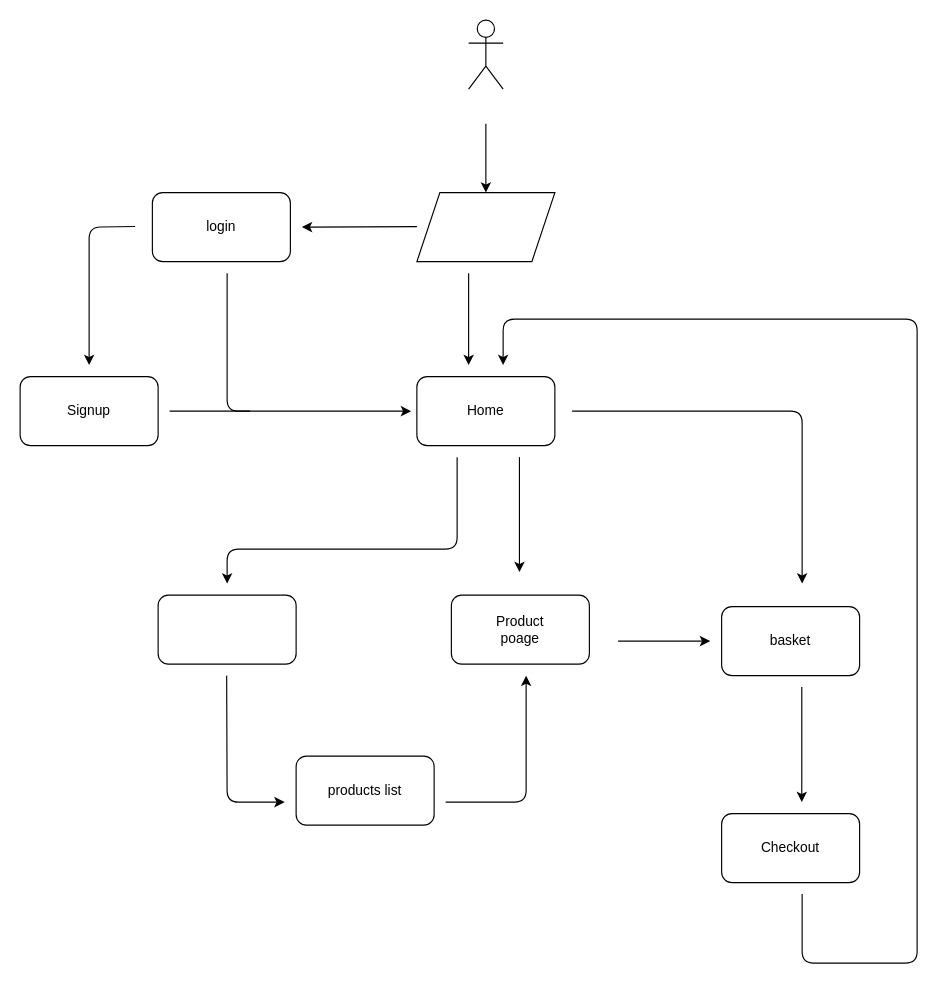
Some shapes in this 946 by 992 pixel diagram are drawn without their labels. Each missing label, with the centre of its shape:
"Actor" goes at pixel 485 54.
"auth" goes at pixel 485 226.
"categories" goes at pixel 226 629.
